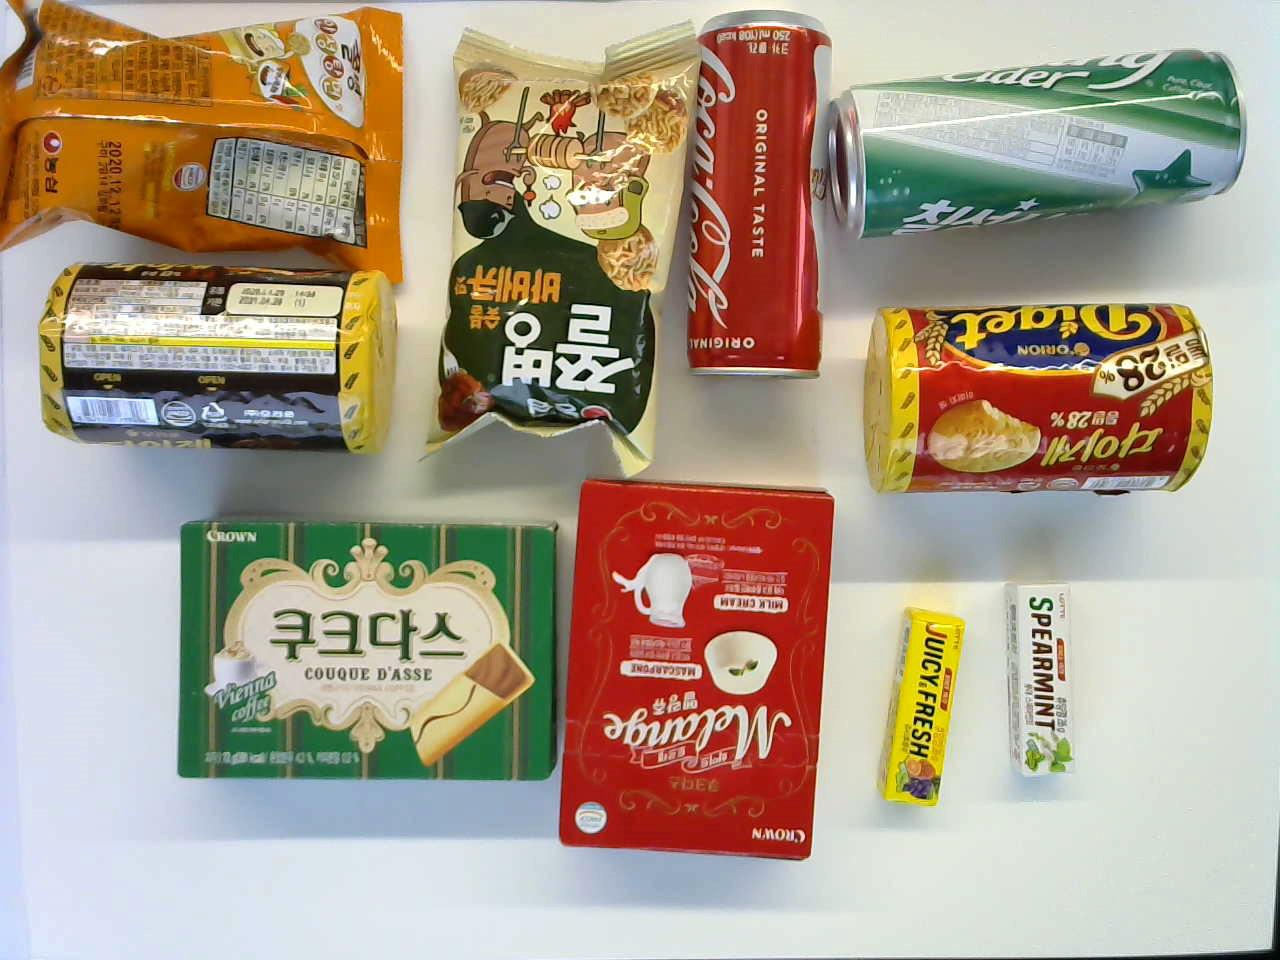cidar: (829, 43, 1256, 232)
coke: (674, 12, 831, 383)
couque_coffee: (170, 503, 560, 783)
couque_white: (549, 478, 847, 866)
diget_choco: (33, 259, 395, 459)
diget_ori: (858, 295, 1214, 495)
jjolbyung_noodle: (0, 7, 417, 281)
jjolbyung_ori: (408, 14, 712, 470)
juicyfresh: (867, 601, 973, 810)
spearmint: (1003, 579, 1077, 789)
